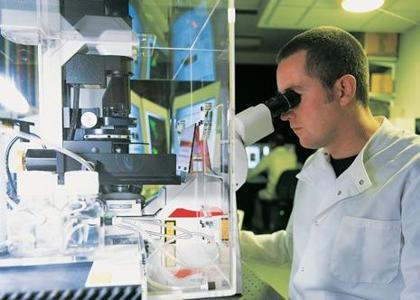person: (239, 25, 420, 300)
